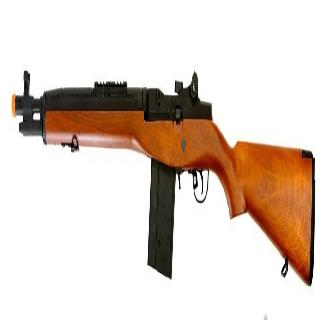gun: (8, 35, 316, 308)
